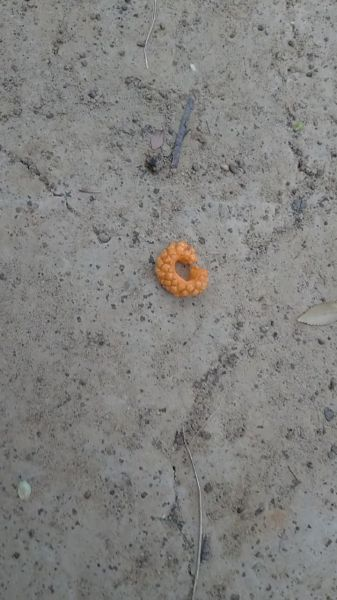eggs: (155, 231, 205, 303)
